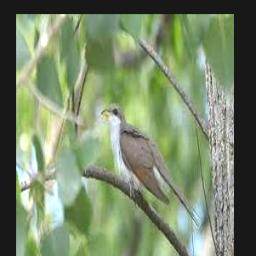Cuckoo: (100, 102, 202, 229)
